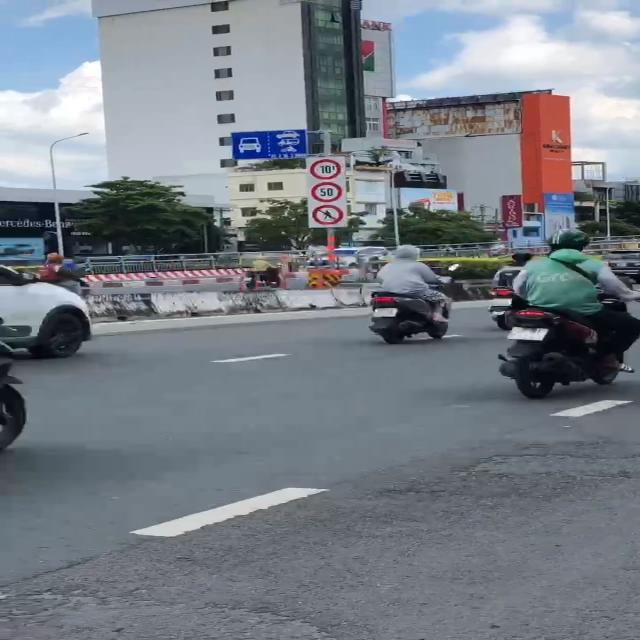Bien bao cam nguoi di bo: (310, 201, 350, 227)
Bien bao toc do toi da cho phep: (310, 181, 348, 204)
